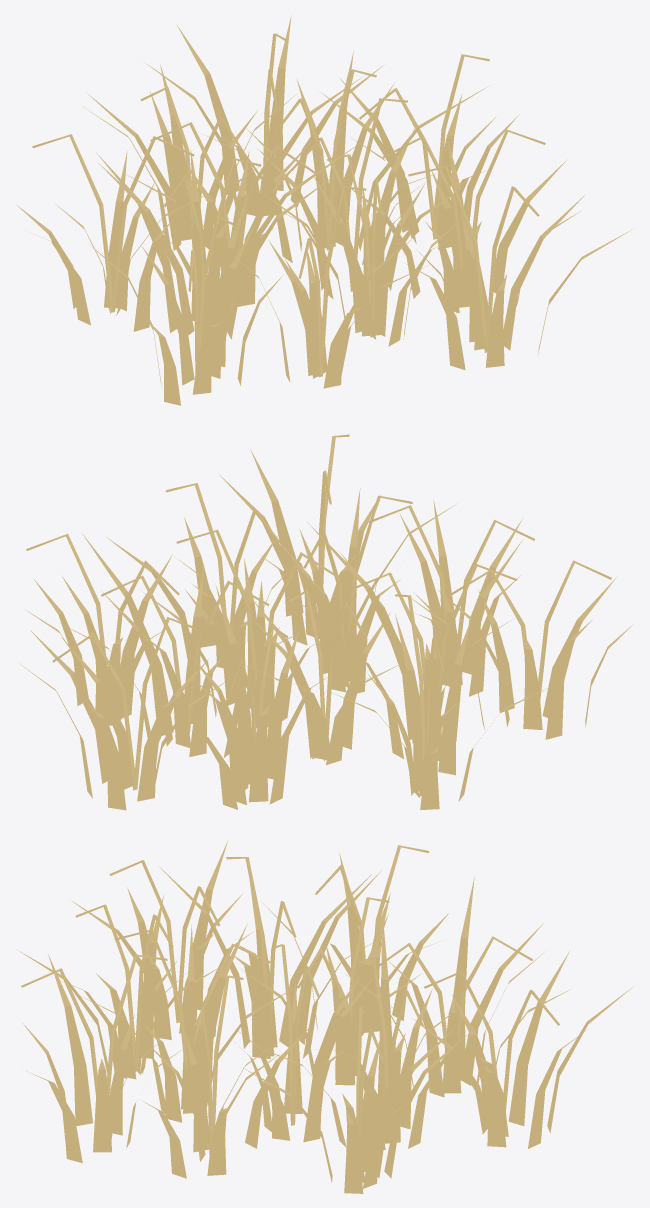
File: Blender_Cheatgrass_1.glb
3 renders of one model, top to bottom at view 1: azimuth 30°, elevation 25°; view 2: azimuth 150°, elevation 25°; view 3: azimuth 270°, elevation 25°, orthographic. The views are drawn at different scales.
Visible parts, largest first — view 1: Blender_Cheatgrass_1; view 2: Blender_Cheatgrass_1; view 3: Blender_Cheatgrass_1.
Part boxes in pixels (box(x1,y1,x2,y2)): Blender_Cheatgrass_1: box(17, 15, 634, 405); Blender_Cheatgrass_1: box(19, 434, 633, 810); Blender_Cheatgrass_1: box(17, 840, 632, 1193).
Size of the model in its own units: 0.8492 by 0.2862 by 0.9083.
